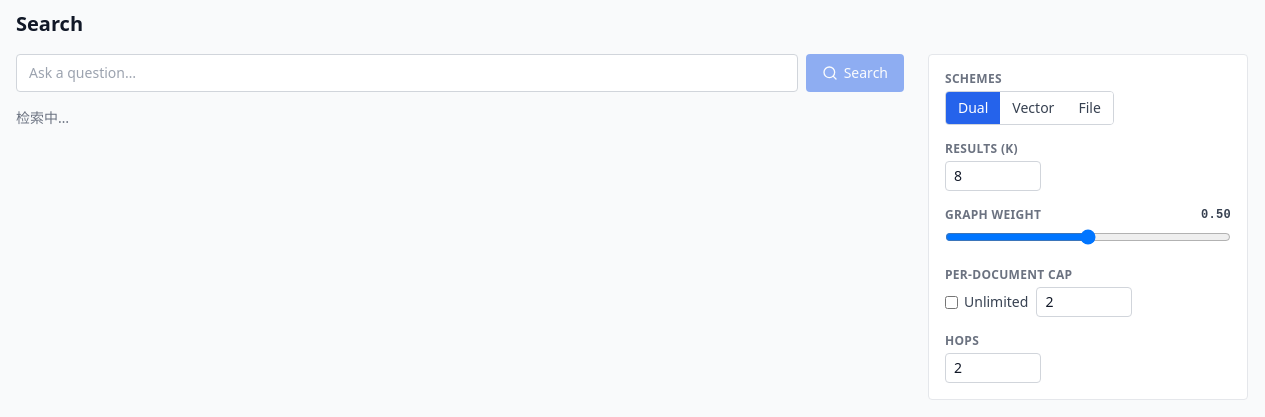
Test: SearchPage › gives each column an independent loading / error / empty state
This screenshot has width=1265, height=417.
Click the checkbox labelled "vector". click: (1033, 108)
box: [1000,92,1066,124]
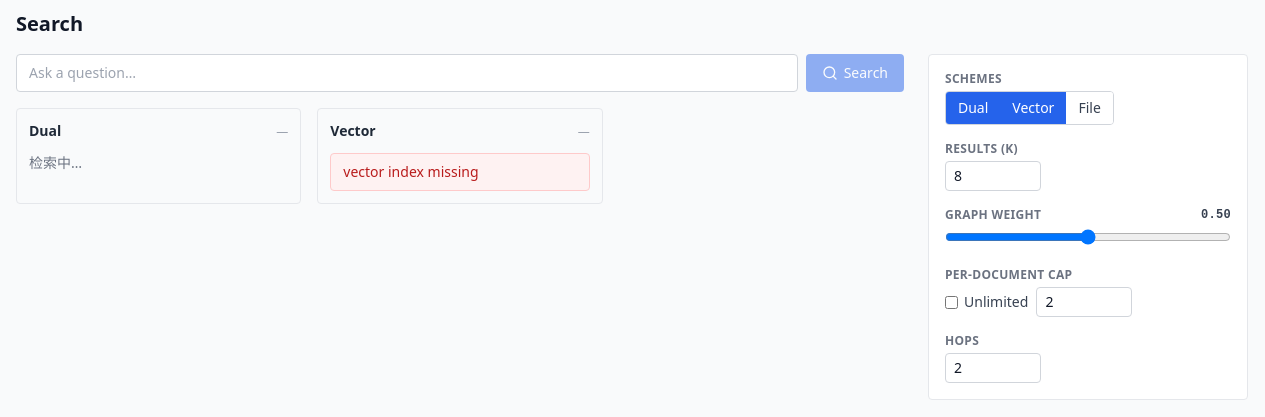
Click the checkbox labelled "file". click: (1090, 108)
box: [1066,92,1113,124]
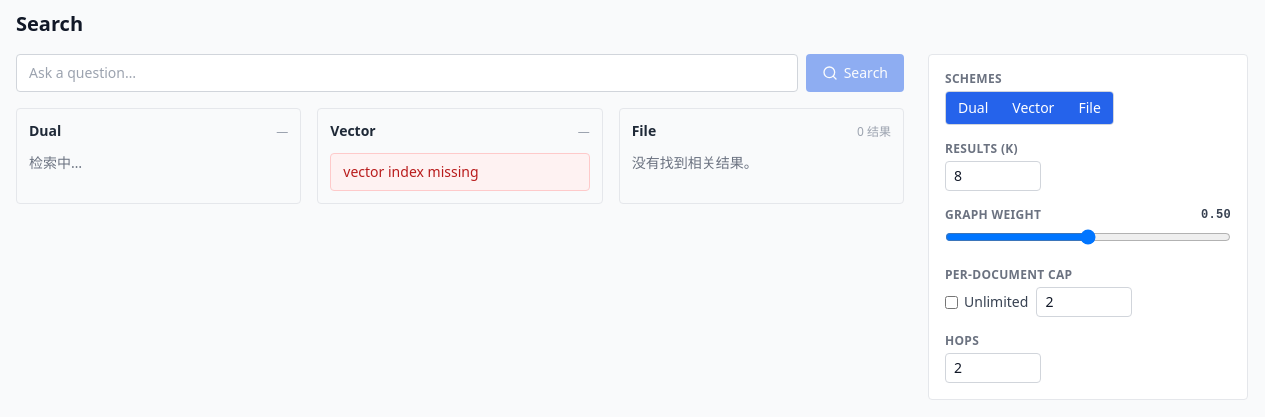
expect the message "检索中…" is shown: met, box [29,153,82,172]
expect the message "vector index missing" is shown: met, box [330,153,590,191]
expect the text "没有找到相关结果。" is shown: met, box [632,153,758,172]
